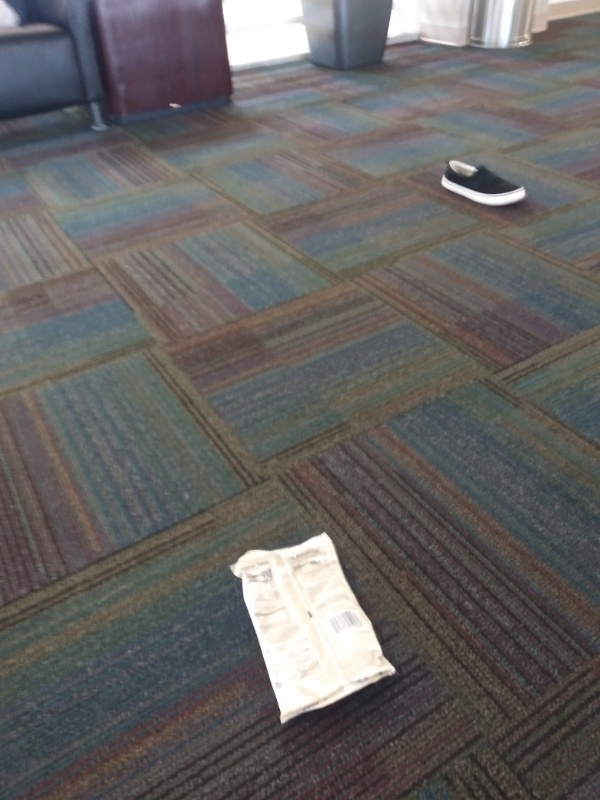bag: (229, 530, 400, 727)
